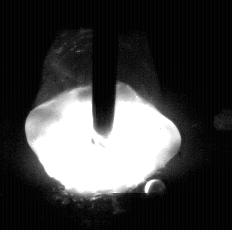arame: (92, 0, 117, 137)
poca: (25, 0, 181, 230)
